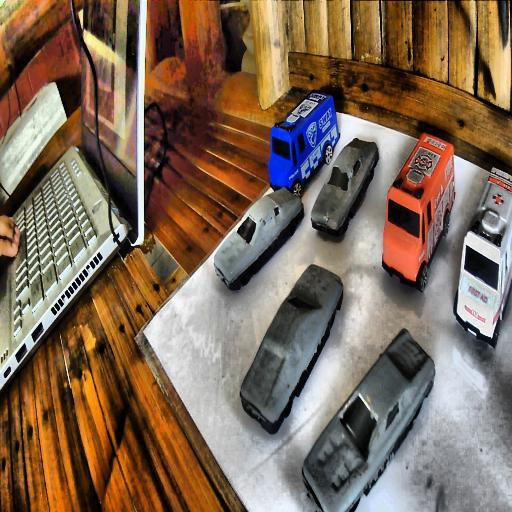ambulance: (453, 167, 512, 349)
fire_truck: (382, 133, 454, 292)
normal_car: (301, 329, 434, 511), (238, 264, 340, 433), (215, 187, 301, 291), (310, 136, 378, 240)
police car: (266, 88, 336, 198)
